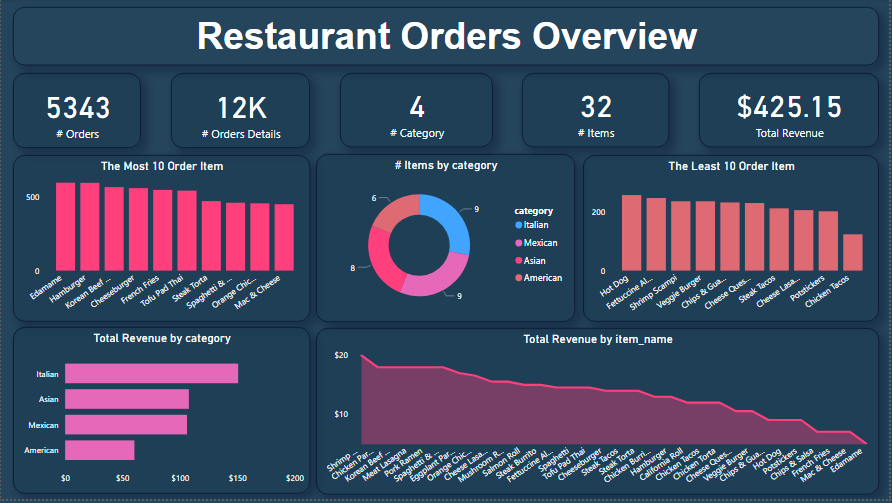

The dashboard page shown, as its layout file describes it:
{"tool":"powerbi","page":{"name":" Overview","canvas":[1280,720],"ordinal":0},"visuals":[{"type":"card","fields":{"Values":["Dax Measures.# Orders Details"]},"box":[244.4,106.6,200.2,108],"z":0},{"type":"card","fields":{"Values":["Dax Measures.# Orders"]},"box":[17.3,106.6,184.3,108],"z":1000},{"type":"card","fields":{"Values":["Dax Measures.# Items"]},"box":[750.2,106.6,211.7,106.6],"z":2000},{"type":"card","fields":{"Values":["Dax Measures.# Category"]},"box":[488.2,106.6,220.3,106.6],"z":3000},{"type":"card","fields":{"Values":["Dax Measures.Total Revenue"]},"box":[1005.1,106.6,259.2,106.6],"z":4000},{"type":"columnChart","title":"The Most 10 Order Item","fields":{"Y":["Dax Measures.# Orders"],"Category":["Menu.item_name"]},"box":[17.3,224.6,427.7,240.5],"z":5000},{"type":"columnChart","title":"The Least 10 Order Item","fields":{"Y":["Dax Measures.# Orders"],"Category":["Menu.item_name"]},"box":[838.1,224.6,426.2,240.5],"z":6000},{"type":"donutChart","fields":{"Category":["Menu.category"],"Y":["Dax Measures.# Items"]},"box":[453.6,223.2,373,241.9],"z":7000},{"type":"barChart","fields":{"Category":["Menu.category"],"Y":["Dax Measures.Total Revenue"]},"box":[17.3,472.3,427.7,240.5],"z":8000},{"type":"areaChart","fields":{"Category":["Menu.item_name"],"Y":["Dax Measures.Total Revenue"]},"box":[453.6,473.8,810.7,240.5],"z":9000},{"type":"textbox","box":[17.3,11.5,1247,83.5],"z":10000}]}

Visuals, with their boxes in screenshot pixels (x1, y1, x2, y2), scaled from the page's 1280x720 canvas onto the 892x503 screenshot:
card - Dax Measures.# Orders Details: left=170, top=74, right=310, bottom=150
card - Dax Measures.# Orders: left=12, top=74, right=140, bottom=150
card - Dax Measures.# Items: left=523, top=74, right=670, bottom=149
card - Dax Measures.# Category: left=340, top=74, right=494, bottom=149
card - Dax Measures.Total Revenue: left=700, top=74, right=881, bottom=149
"The Most 10 Order Item" columnChart: left=12, top=157, right=310, bottom=325
"The Least 10 Order Item" columnChart: left=584, top=157, right=881, bottom=325
donutChart - Menu.category x Dax Measures.# Items: left=316, top=156, right=576, bottom=325
barChart - Menu.category x Dax Measures.Total Revenue: left=12, top=330, right=310, bottom=498
areaChart - Menu.item_name x Dax Measures.Total Revenue: left=316, top=331, right=881, bottom=499
textbox: left=12, top=8, right=881, bottom=66
